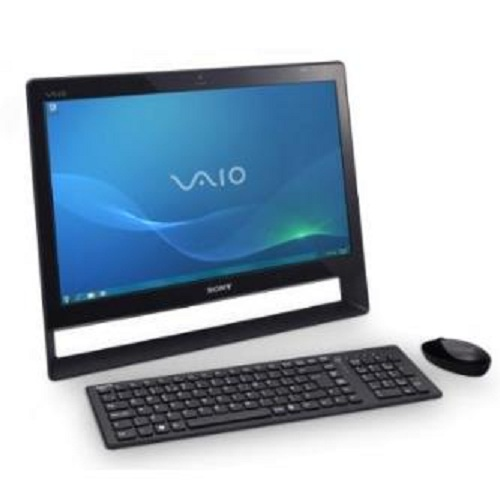Teclado: (83, 343, 446, 449)
